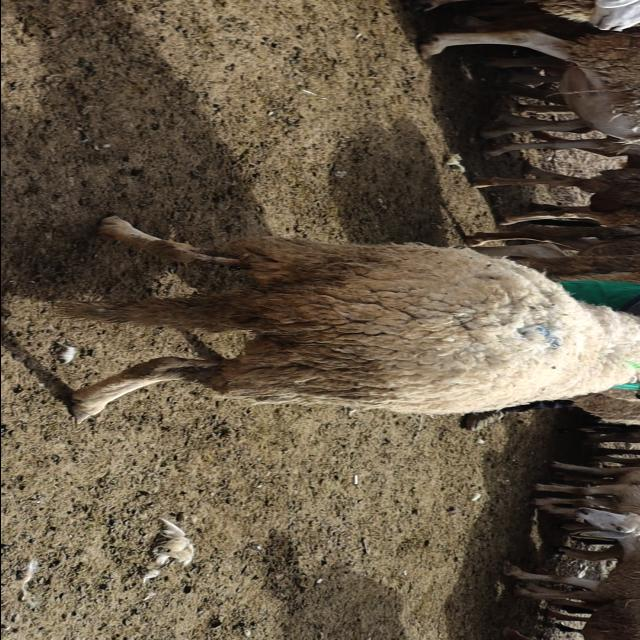Score_3: (55, 216, 640, 423)
